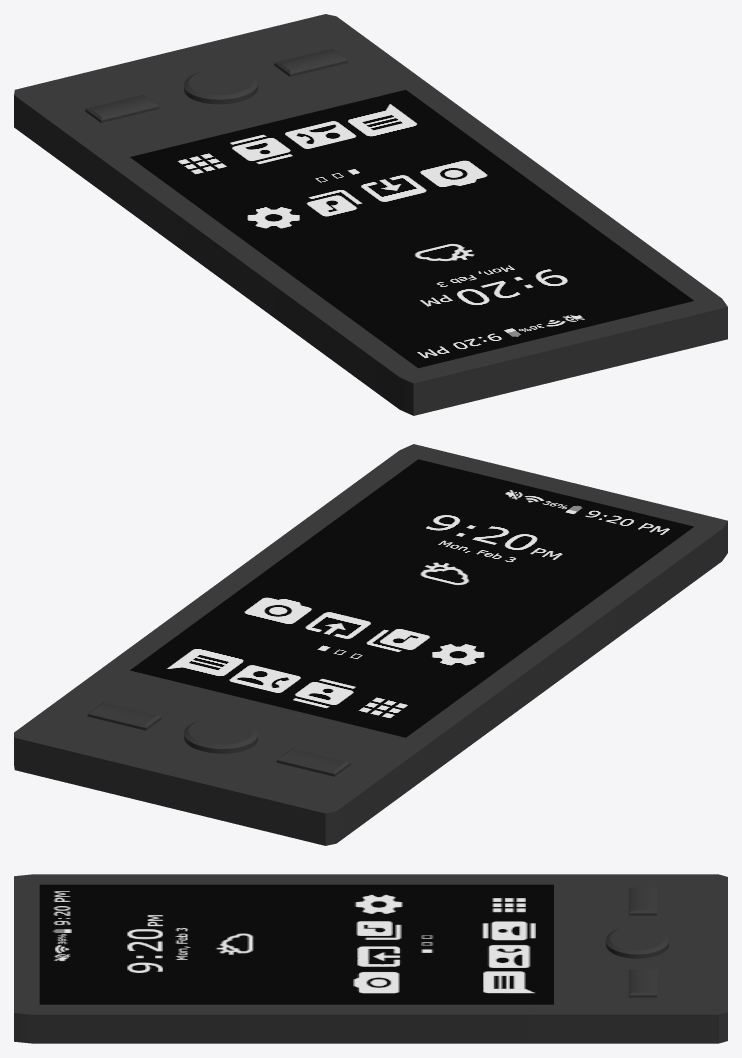
File: Simple_LowPoly_Mobile_Phone_Android-Style.glb
3 renders of one model, top to bottom at view 1: azimuth 30°, elevation 25°; view 2: azimuth 150°, elevation 25°; view 3: azimuth 270°, elevation 25°, orthographic. The views are drawn at different scales.
Parts seen in each view (by area): view 1: unnamed (×2); view 2: unnamed (×2); view 3: unnamed (×2).
Boxes of the visible parts, <box> form: unnamed (×2): <box>14,14,727,415</box>; unnamed (×2): <box>14,444,727,845</box>; unnamed (×2): <box>14,874,727,1043</box>.
Bounding box in the file's own units: 2 × 0.2343 × 4.3.
Materials: 2 (1 with a texture image).
